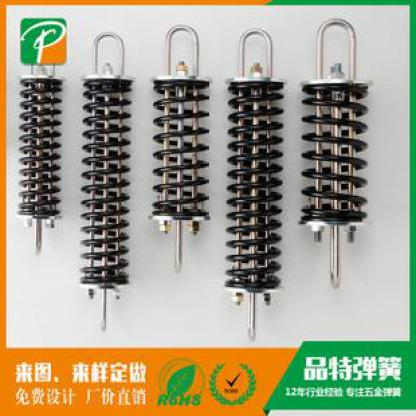FOD: (223, 79, 288, 290), (74, 77, 131, 283), (295, 84, 373, 223), (147, 79, 213, 218), (12, 77, 66, 214)
